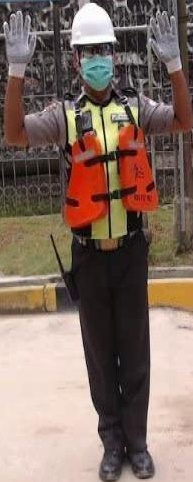boots: (127, 446, 155, 478), (98, 446, 123, 481)
gloves: (0, 8, 36, 76), (147, 9, 183, 73)
hard-hat: (68, 1, 117, 46)
ppe-suit: (51, 84, 160, 251)
